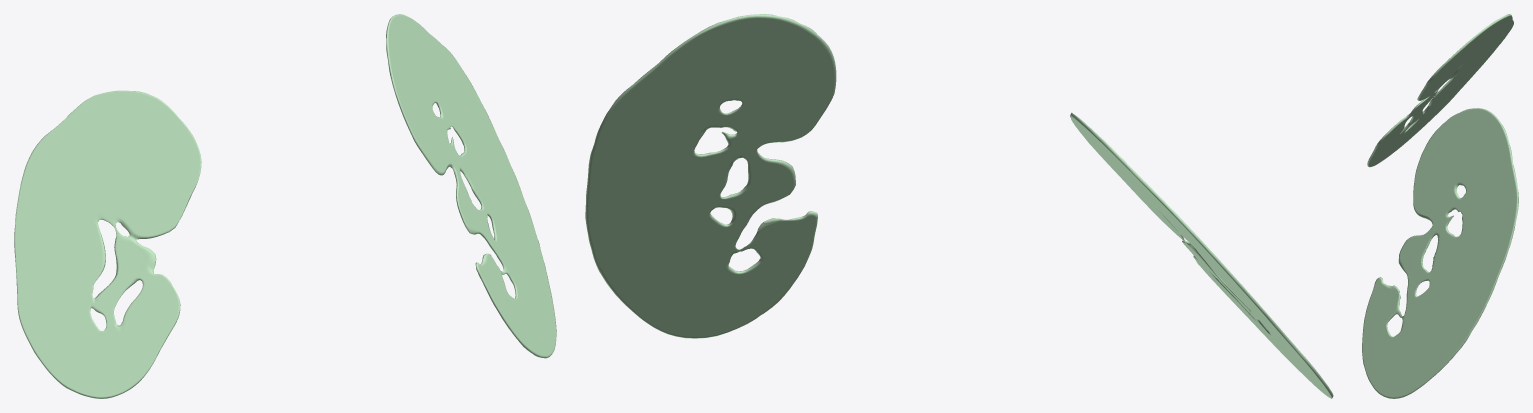
The model's file is VH_F_Kidney_Extraction_Sites_v1.1.glb.
3 renders of one model, left to right at view 1: azimuth 30°, elevation 25°; view 2: azimuth 150°, elevation 25°; view 3: azimuth 270°, elevation 25°, orthographic. The views are drawn at different scales.
Parts seen in each view (by area): view 1: VHF_kidney_bisection_line_R, VHF_kidney_bisection_line_L; view 2: VHF_kidney_bisection_line_L, VHF_kidney_bisection_line_R; view 3: VHF_kidney_bisection_line_L, VHF_kidney_bisection_line_R.
Boxes of the visible parts, x1,y1,x2,y2 form: VHF_kidney_bisection_line_R: (14,90,201,398); VHF_kidney_bisection_line_L: (386,14,556,358); VHF_kidney_bisection_line_L: (585,14,836,338); VHF_kidney_bisection_line_R: (1070,112,1333,398); VHF_kidney_bisection_line_L: (1362,108,1518,398); VHF_kidney_bisection_line_R: (1367,14,1513,167).
Bounding box in the file's own units: 0.209 × 0.1187 × 0.0676.
